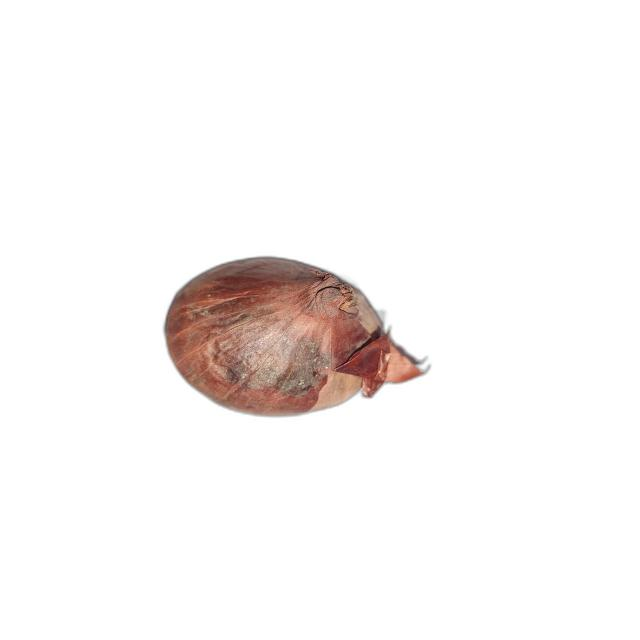onion: (164, 257, 427, 418)
